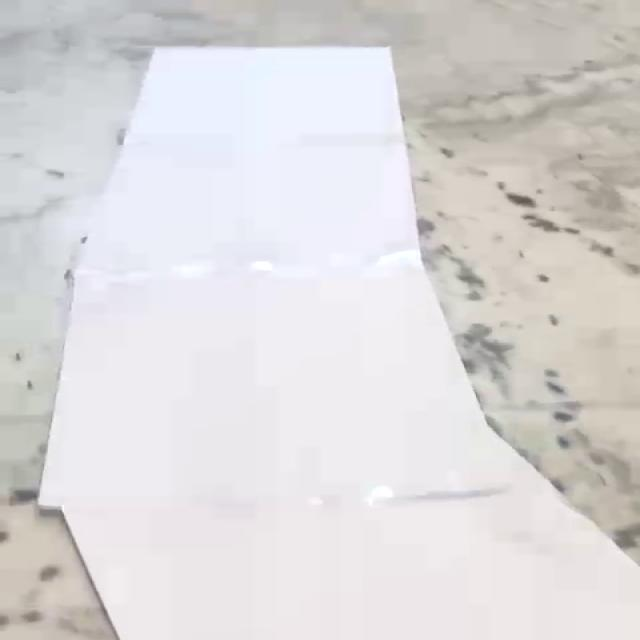road: (36, 44, 640, 640)
